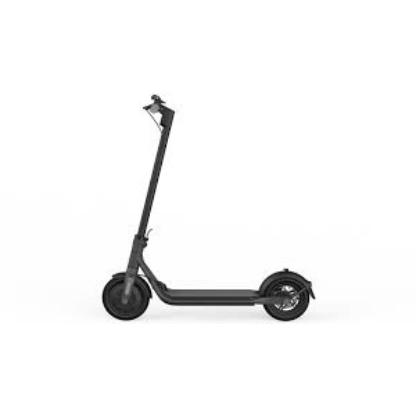bike: (101, 95, 316, 322)
car: (101, 95, 316, 323)
